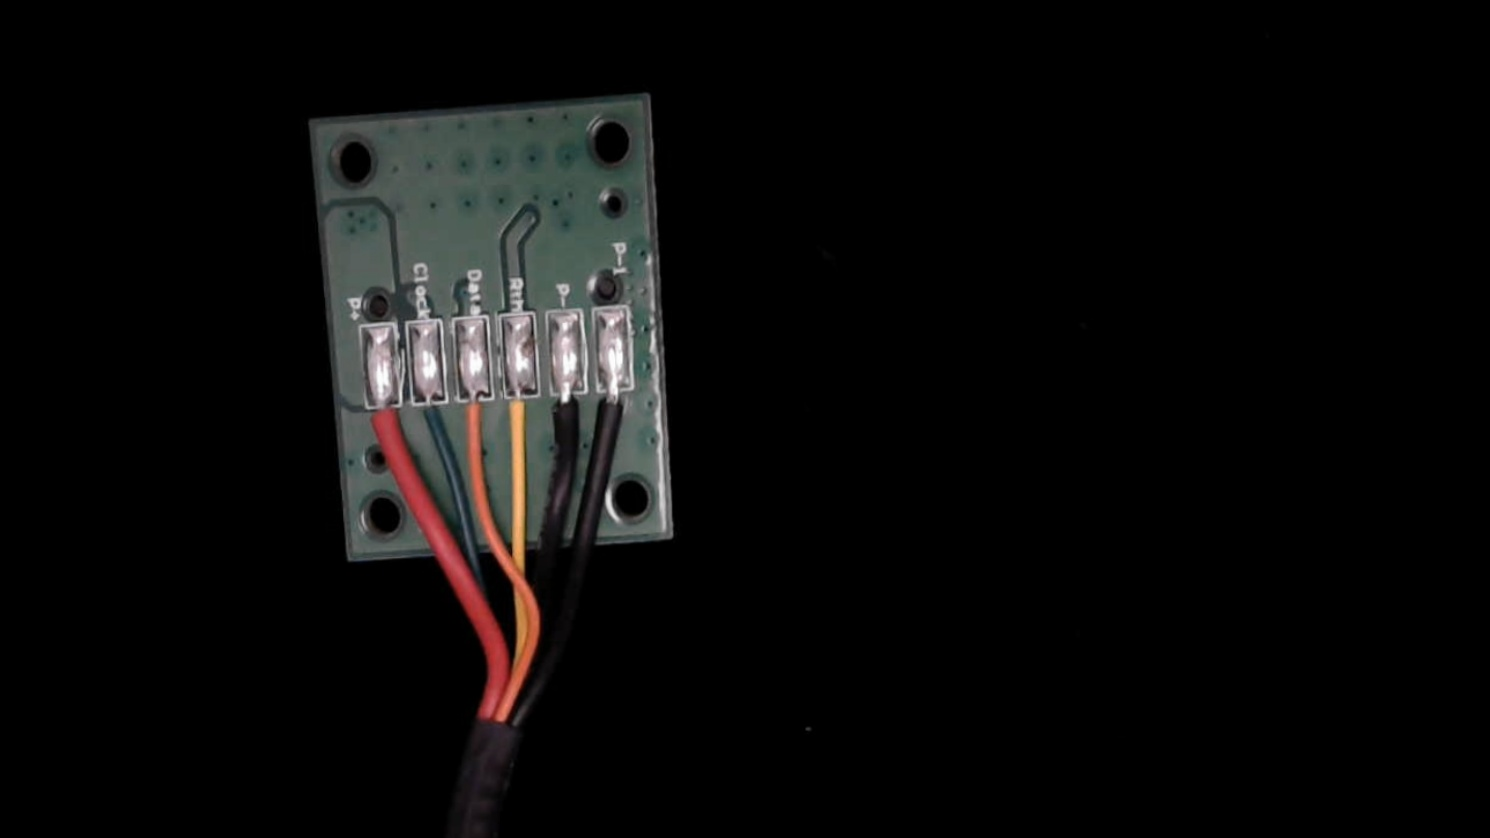Black: (549, 376, 586, 465)
Black1: (595, 371, 633, 456)
Green: (409, 383, 450, 458)
Orange: (455, 383, 492, 445)
Red: (365, 391, 405, 471)
Yellow: (496, 378, 540, 459)
